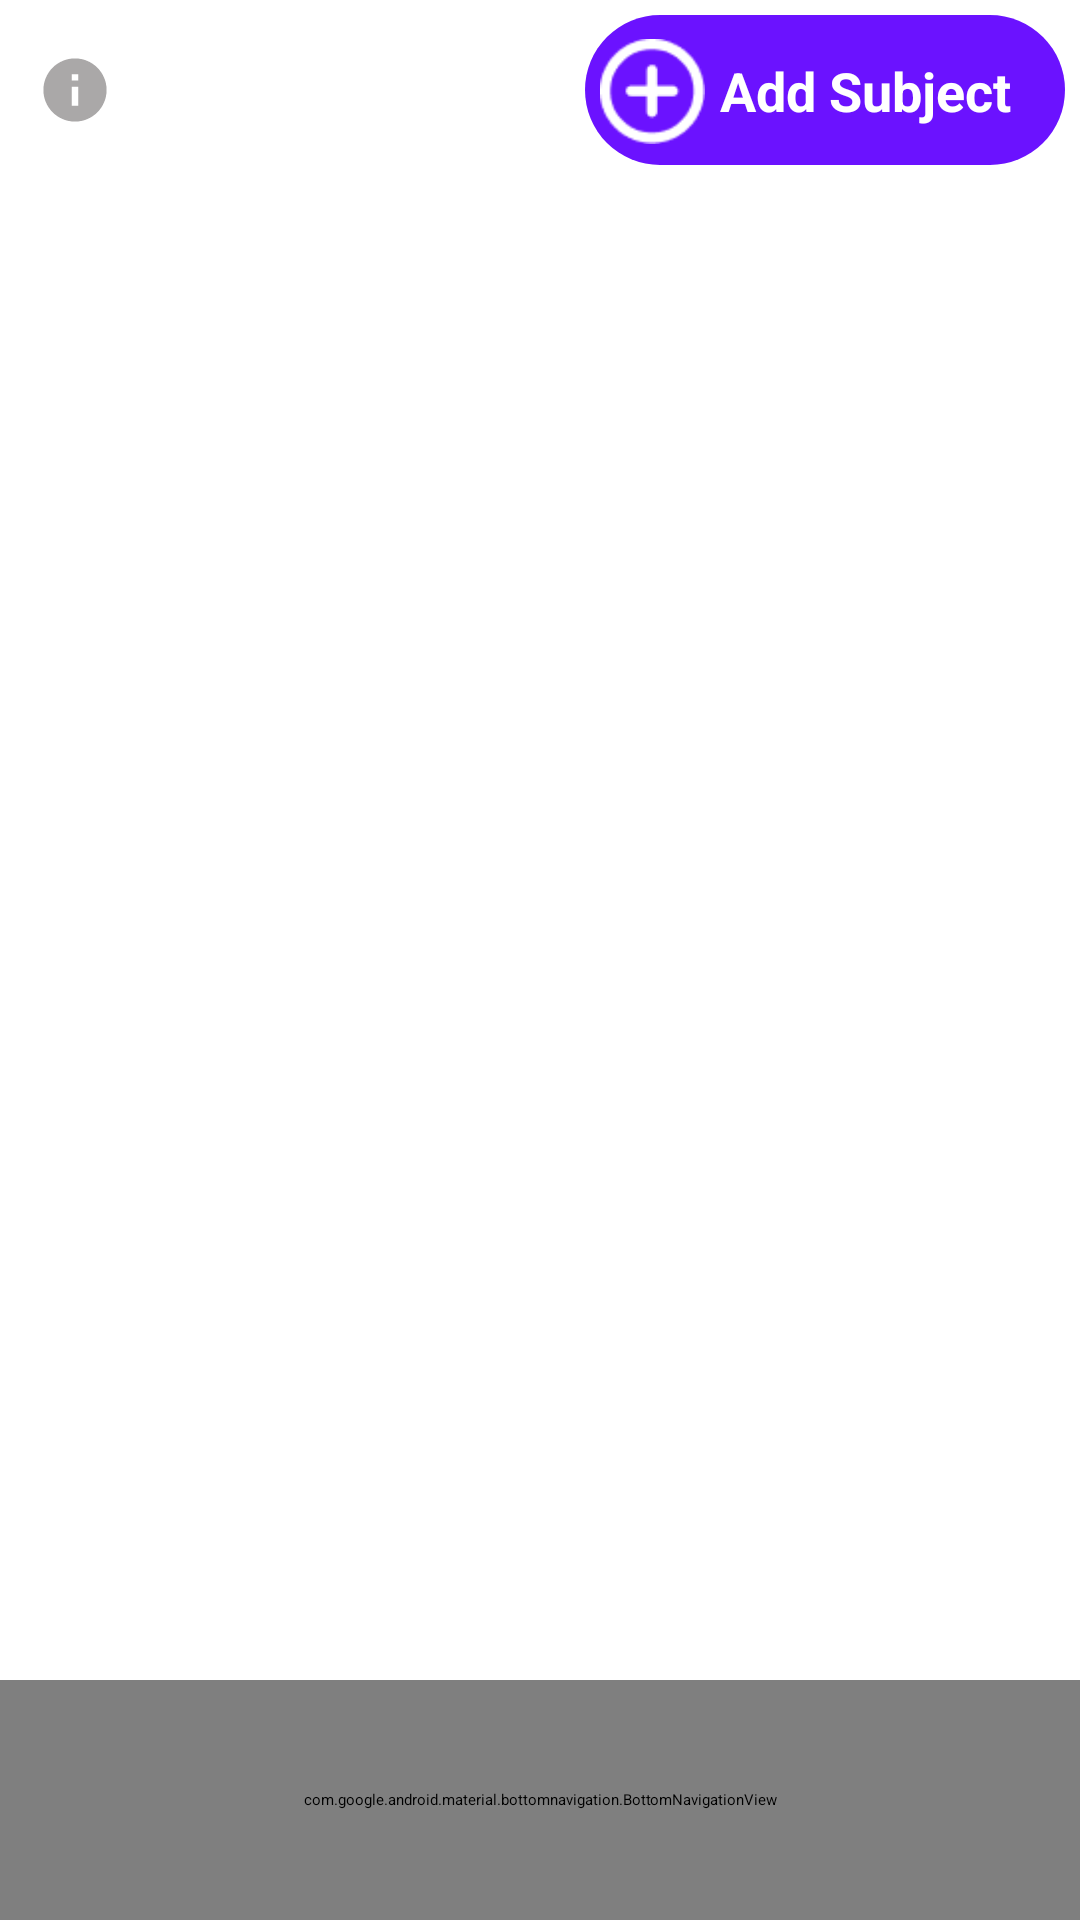

Point at icon controls on the screen. Image size 1080px x 1920px, points as point (x, y).
about: point (75, 90)
